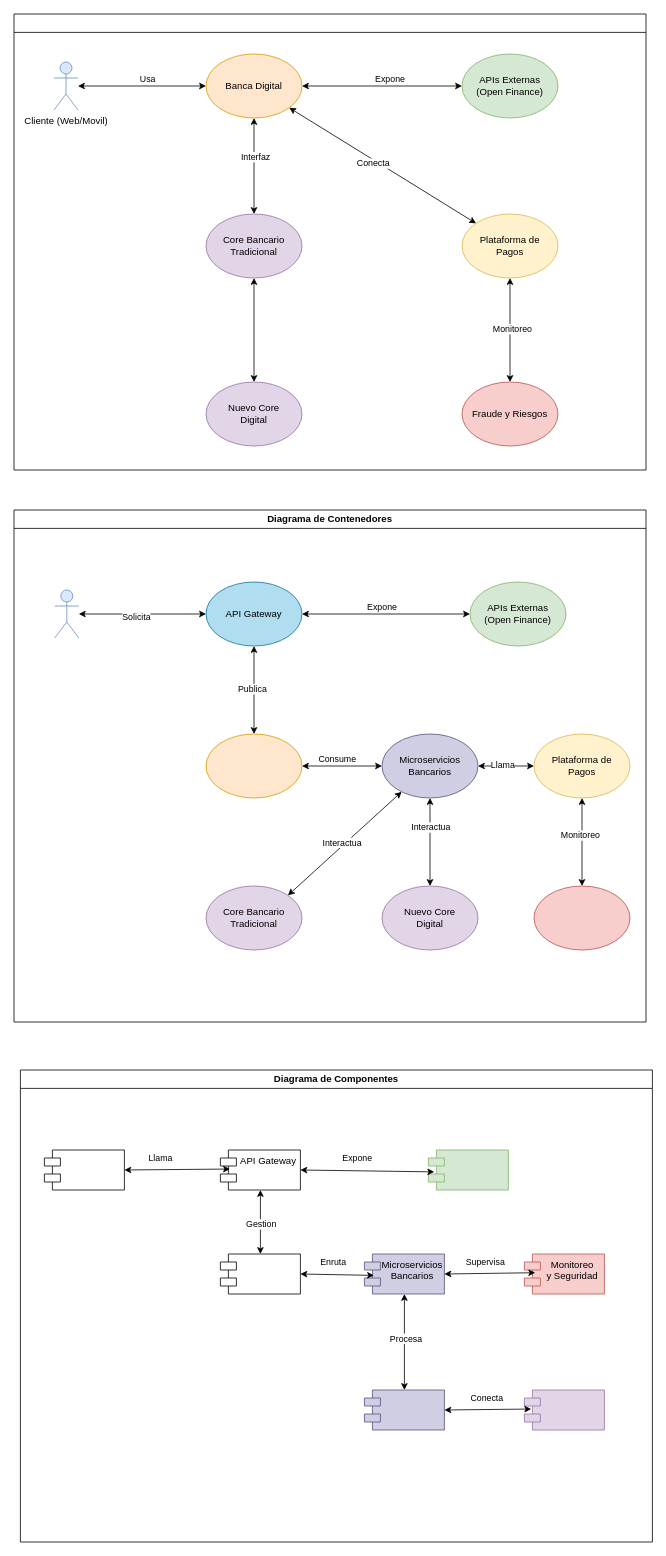
Some shapes in this 666 by 1556 pixel diagram are drawn without their labels. Here are the shapes that lost their labels. From the top down, the centre of each, then its label:
the point at 329,241: Diagrama de Contexto
the point at 66,613: Cliente (App/Web)
the point at 253,765: Event Bus (Kafka/RabittMQ)
the point at 581,917: Gestion de Fraudes y Riesgos
the point at 84,1169: FrontEnd (Web/Movil)
the point at 468,1169: Exposicion API
the point at 260,1273: Service Mesh (Istio, )
the point at 404,1409: Orquestador de Pagos
the point at 564,1409: Core Bancario Digital
